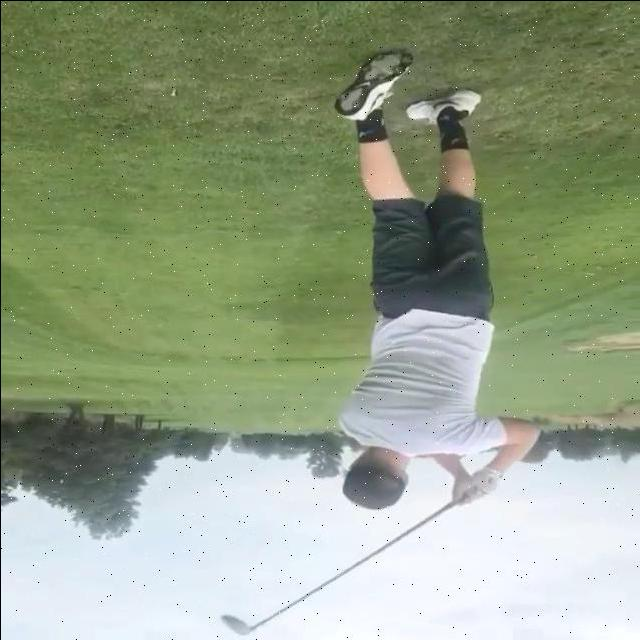golf club-handle: (218, 498, 460, 634)
golf club-head: (218, 613, 250, 635)
